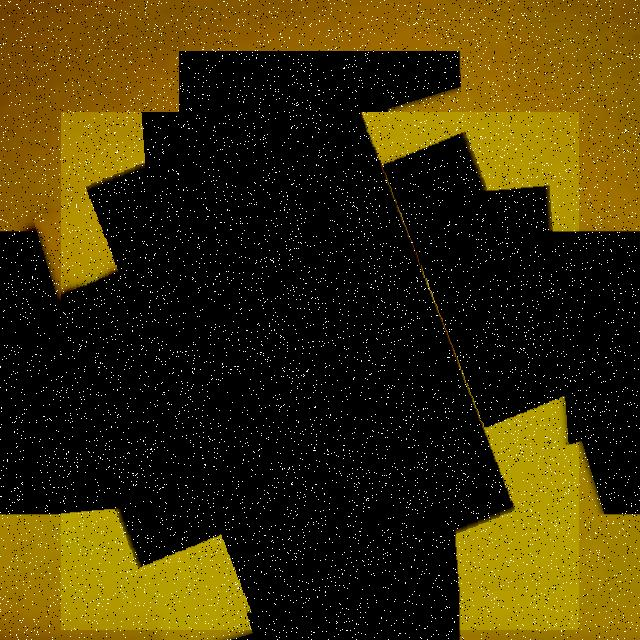lima puluh ribu rupiah: (61, 112, 579, 630)
